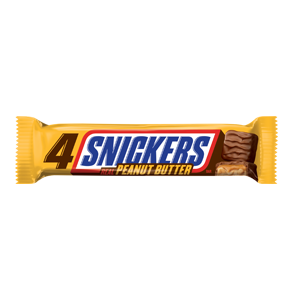snickers: (82, 134, 208, 166), (79, 134, 208, 165)
